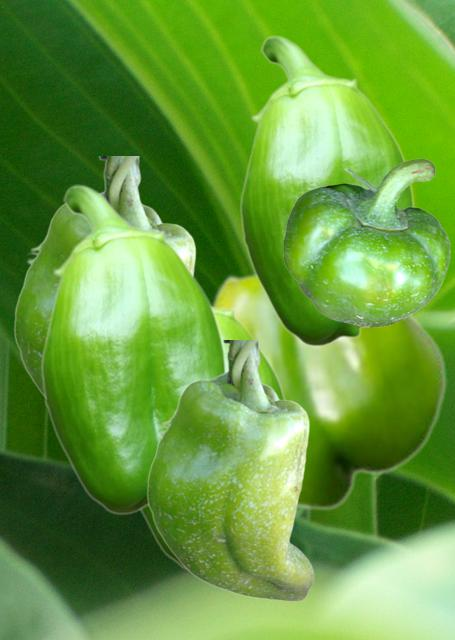bell_pepper: (40, 184, 226, 514), (209, 269, 446, 510), (239, 35, 414, 346), (13, 156, 198, 395), (146, 340, 313, 600), (140, 304, 287, 570), (283, 158, 449, 326)
